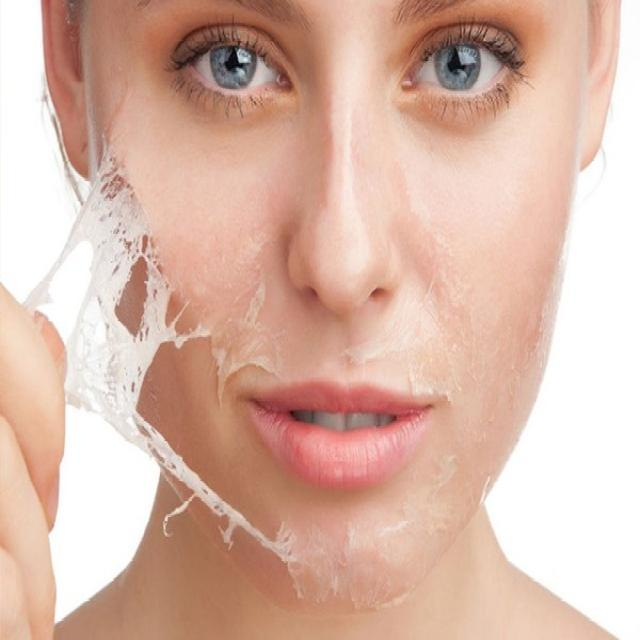dry: (56, 118, 280, 398), (150, 424, 398, 610), (347, 312, 468, 397)
